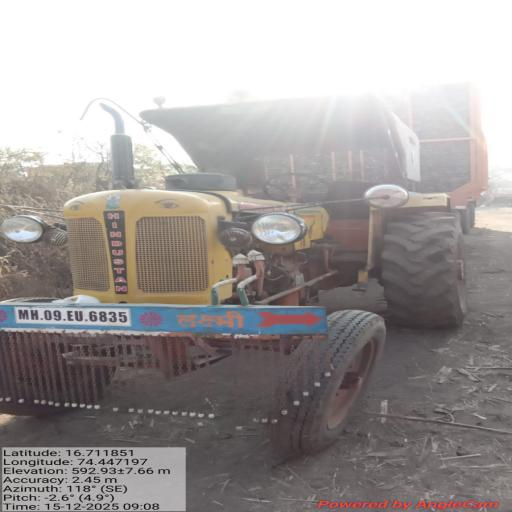number_plate: (16, 304, 140, 341)
